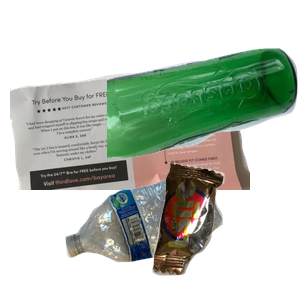glass: (107, 46, 300, 197)
paper: (10, 61, 250, 241)
plastic: (63, 170, 278, 300)
trash: (150, 160, 300, 300)
